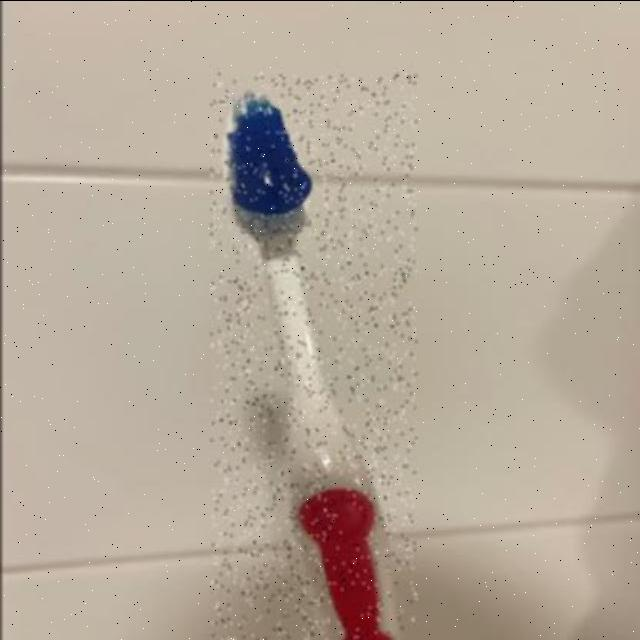toothbrush: (209, 72, 415, 640)
